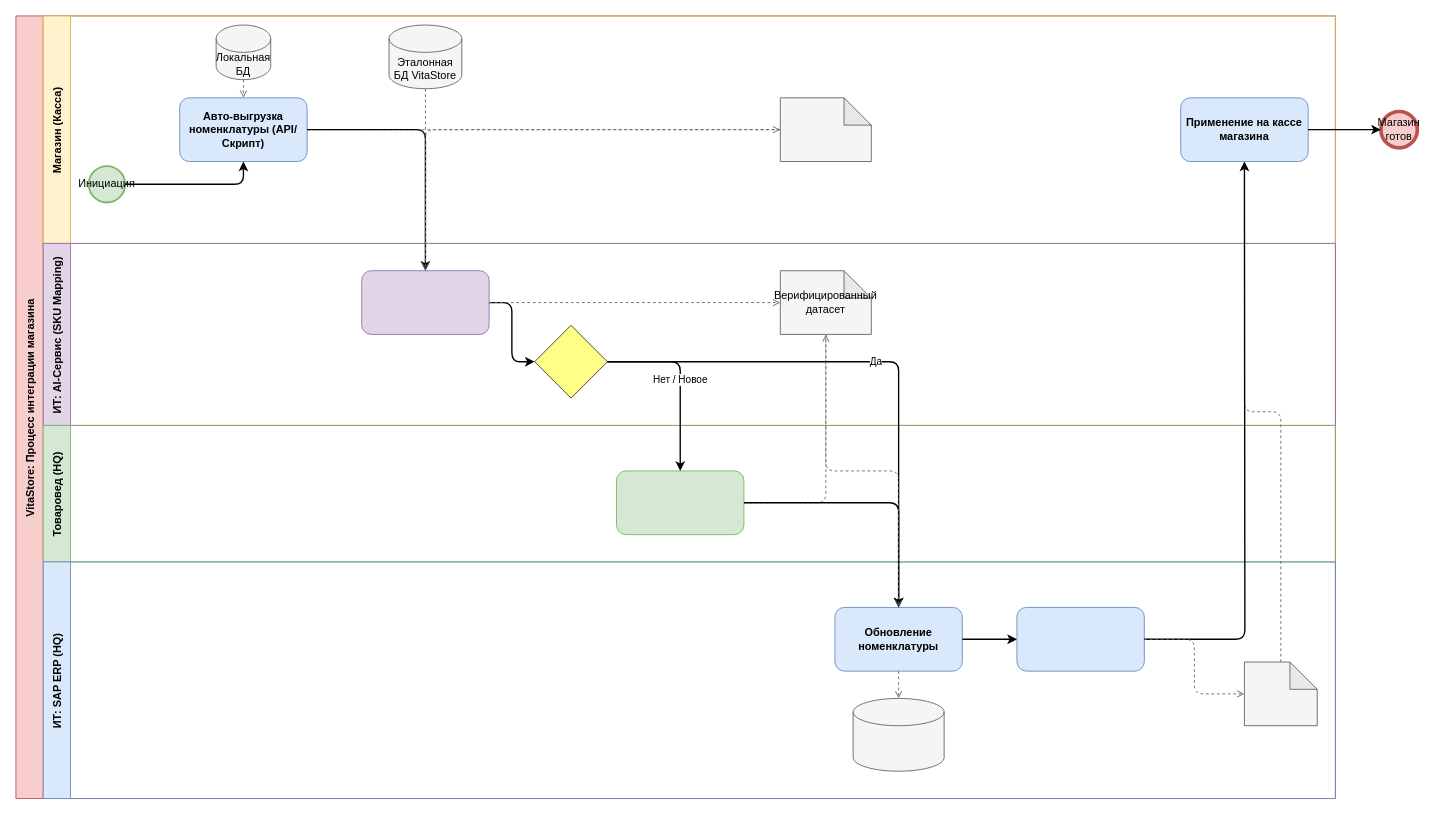
Some shapes in this 1436 by 814 pixel diagram are drawn without their labels. The shapes that lost their labels are listed below. From the top down, each one's centre as x and y in pixels, then its label:
At (825,129): "Сырой датасет".
At (425,302): "Нормализация и ИИ-маппинг товаров".
At (570,361): "Уверенность > 95%?".
At (680,502): "Ручная верификация спорных позиций".
At (1080,639): "Генерация пакета обновлений (XML)".
At (1280,693): "XML пакет обновлений".
At (898,734): "SAP ERP Database".
